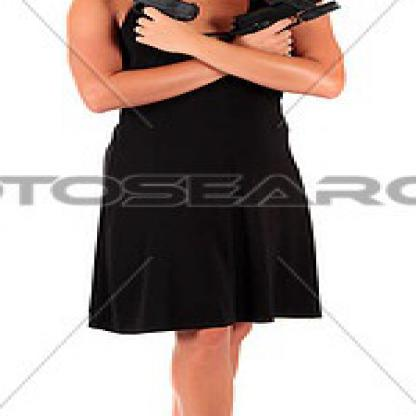gun: (225, 0, 352, 53), (108, 0, 209, 29)
